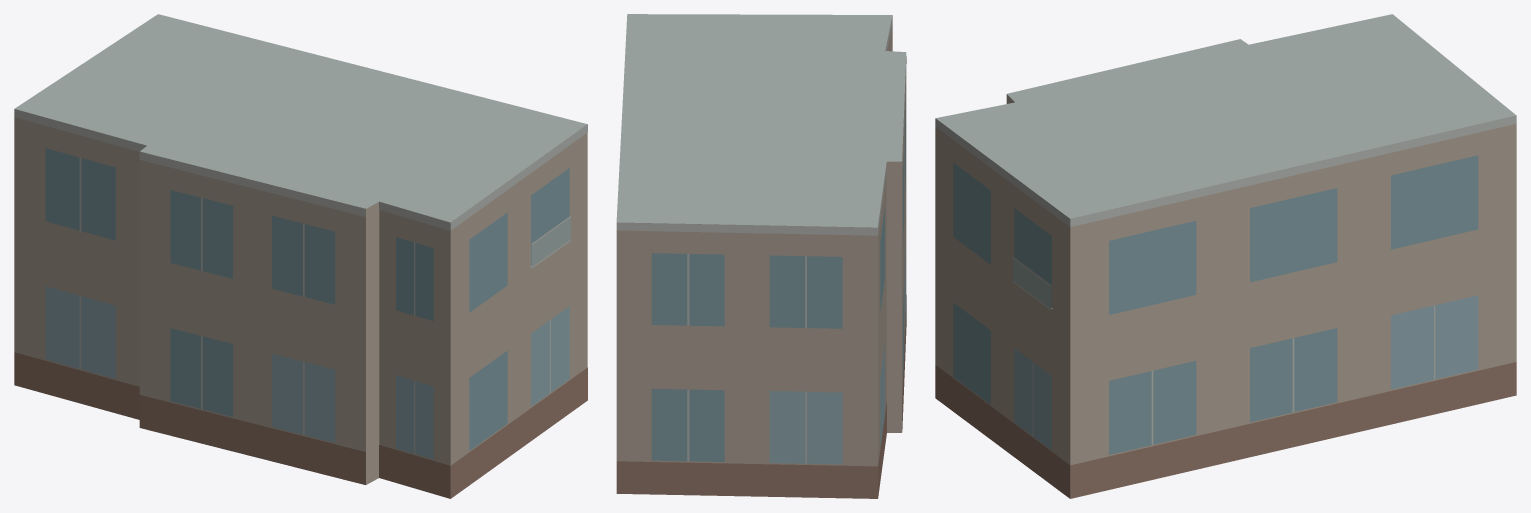
The model's file is survey-upis-32748081.glb.
The picture shows the model from 3 angles, left to right: view 1: azimuth 30°, elevation 25°; view 2: azimuth 150°, elevation 25°; view 3: azimuth 270°, elevation 25°; orthographic projection. The views are drawn at different scales.
Visible parts, largest first — view 1: survey-upis-32748081.tmp; view 2: survey-upis-32748081.tmp; view 3: survey-upis-32748081.tmp.
Boxes of the visible parts, x1,y1,x2,y2 form: survey-upis-32748081.tmp: [14, 14, 587, 498]; survey-upis-32748081.tmp: [616, 14, 906, 498]; survey-upis-32748081.tmp: [935, 14, 1516, 498].
Bounding box in the file's own units: 12.88 × 8.2 × 15.44.
